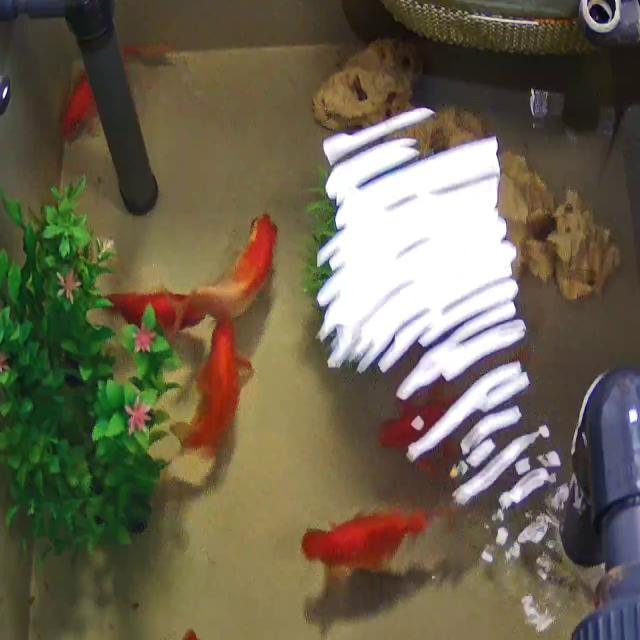fish: (172, 312, 250, 462), (181, 214, 278, 331), (310, 507, 420, 575), (101, 289, 199, 337), (378, 402, 451, 456), (59, 73, 97, 141)
